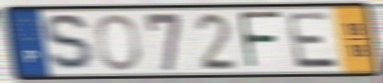2: (193, 11, 239, 72)
7: (142, 11, 186, 74)
E: (284, 10, 343, 70)
F: (235, 10, 285, 73)
O: (94, 13, 144, 72)
S: (41, 11, 101, 74)
